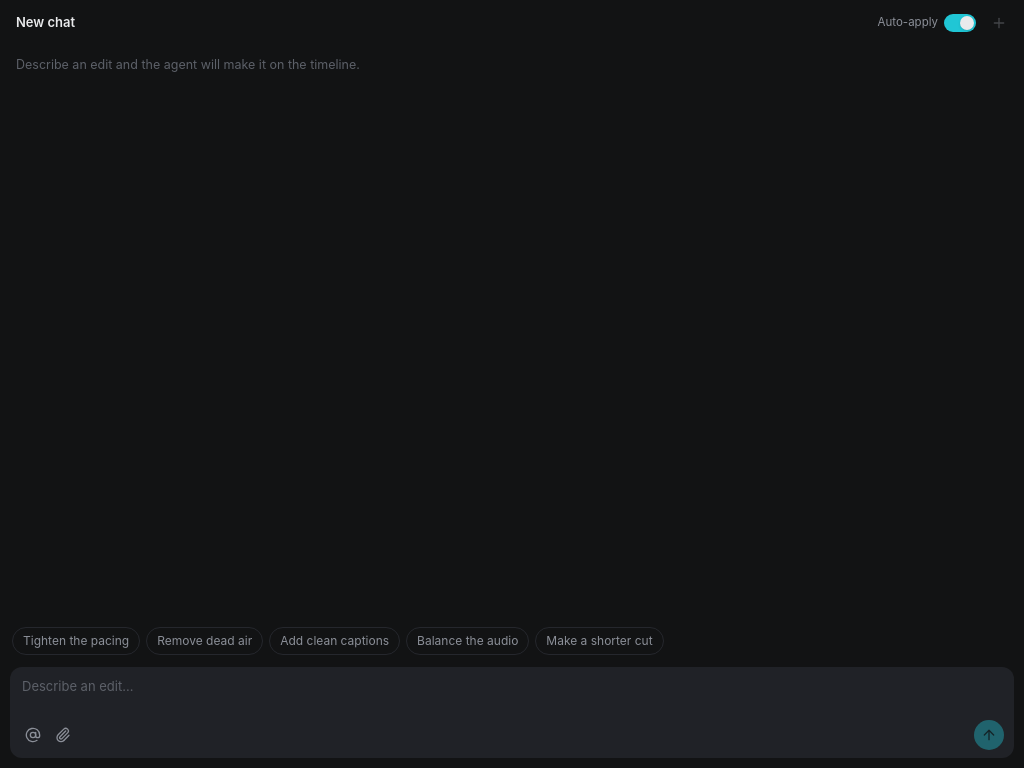
Test: AiPanel › fills the draft from a quick edit without sending, and hides quick edits after the first message
Click the button "Remove dead air" at [205, 641], box left=146, top=627, right=263, bottom=655
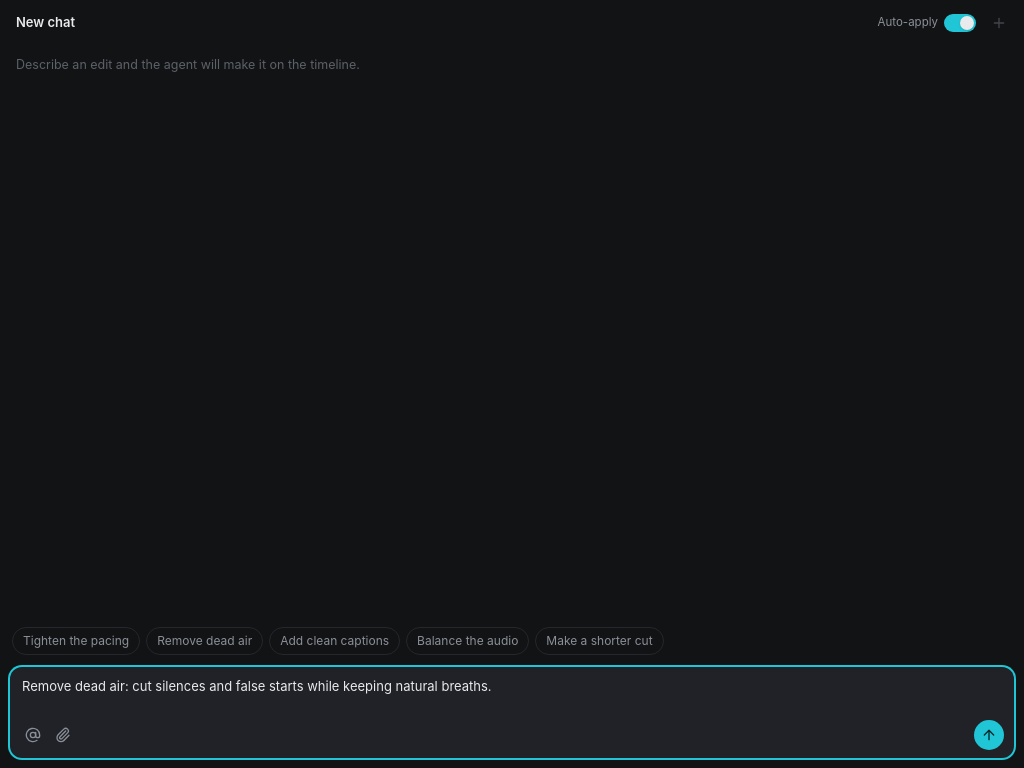
Check: the text box named "Describe an edit" holds "Remove dead air: cut silences and false starts while keeping natural breaths.", box left=20, top=677, right=1004, bottom=716
